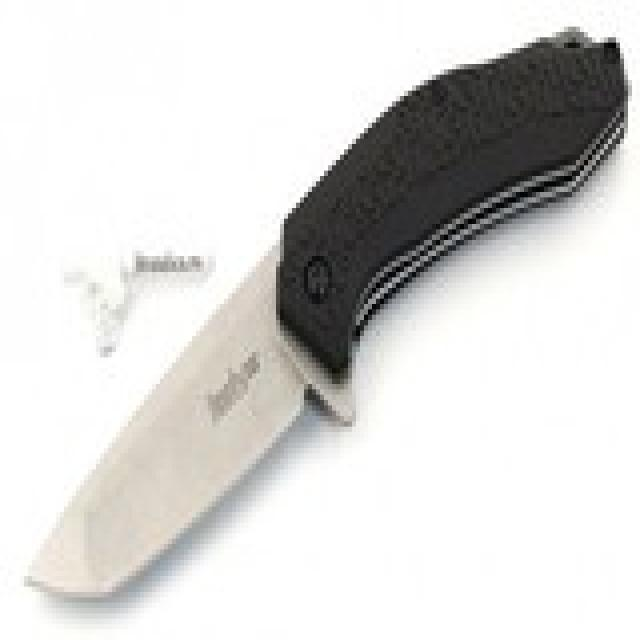Knife: (23, 21, 625, 594)
